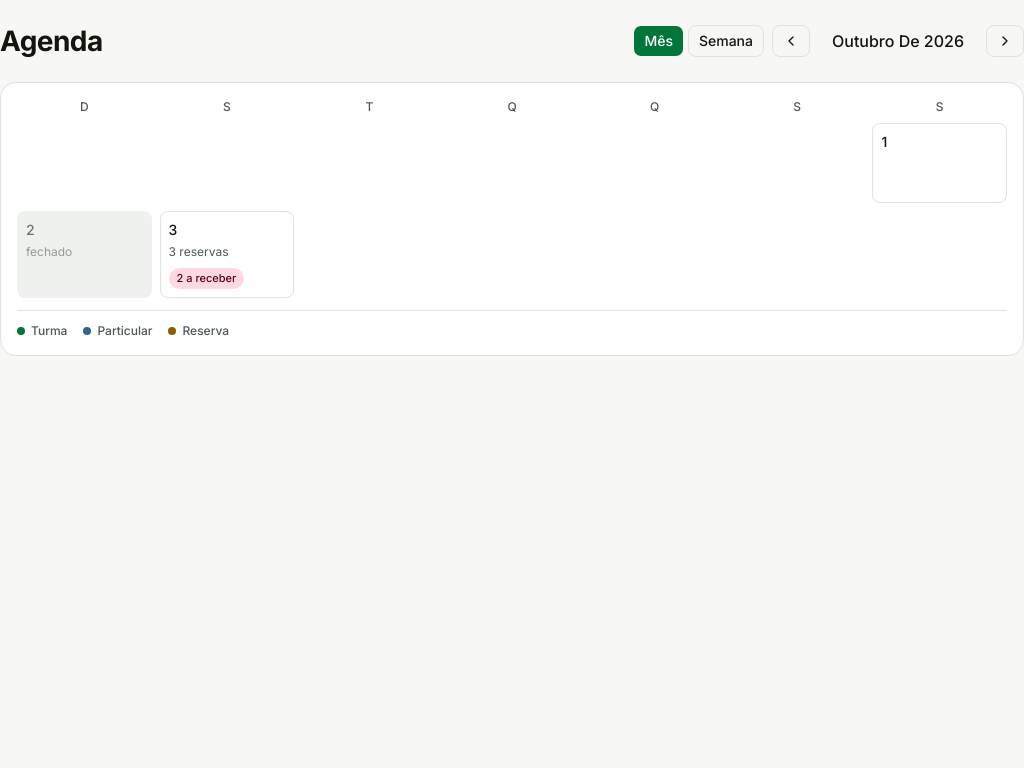
Test case: AgendaView (SPEC-012) › mostra quem criou e quem cancelou
Click the text "3 reservas": click(199, 252) left=169, top=244, right=228, bottom=260
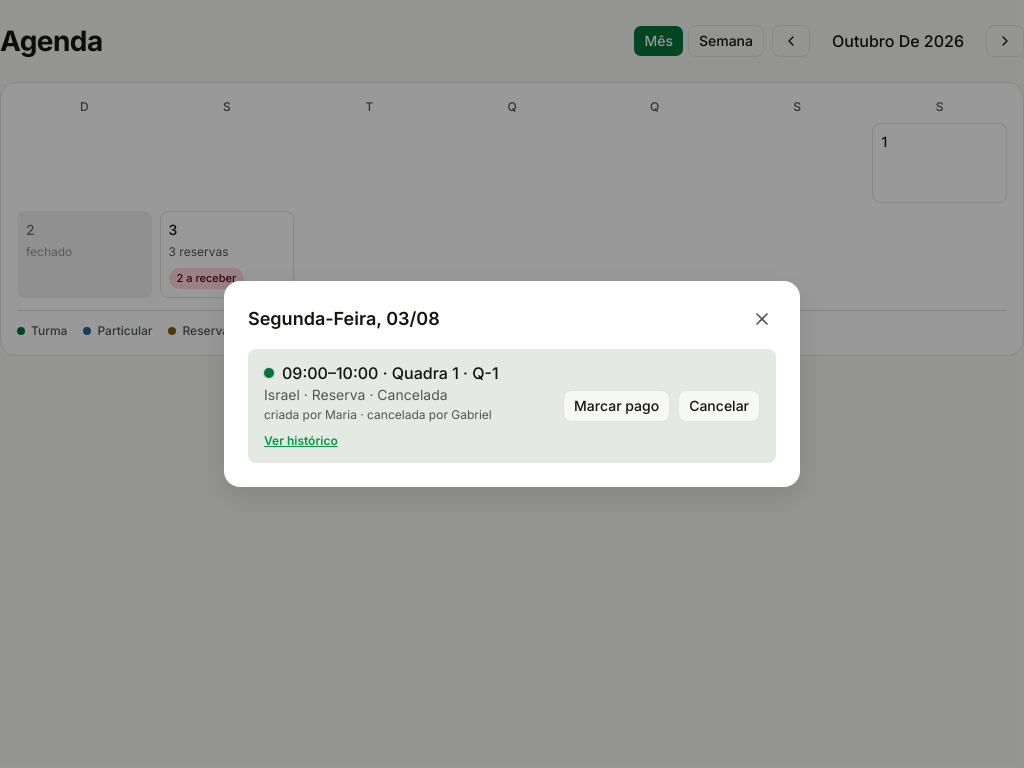
Result: the text "criada por Maria · cancelada por Gabriel" is shown at left=264, top=407, right=498, bottom=423
